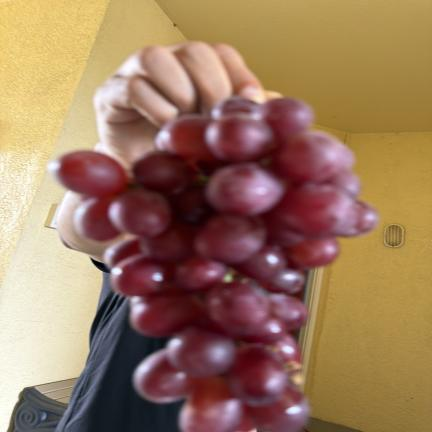grape_cluster: (50, 97, 377, 432)
